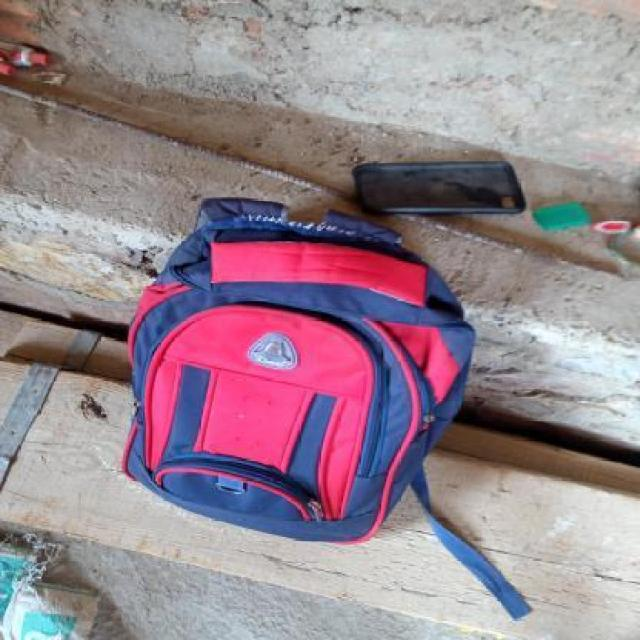backpack: (117, 194, 481, 554)
